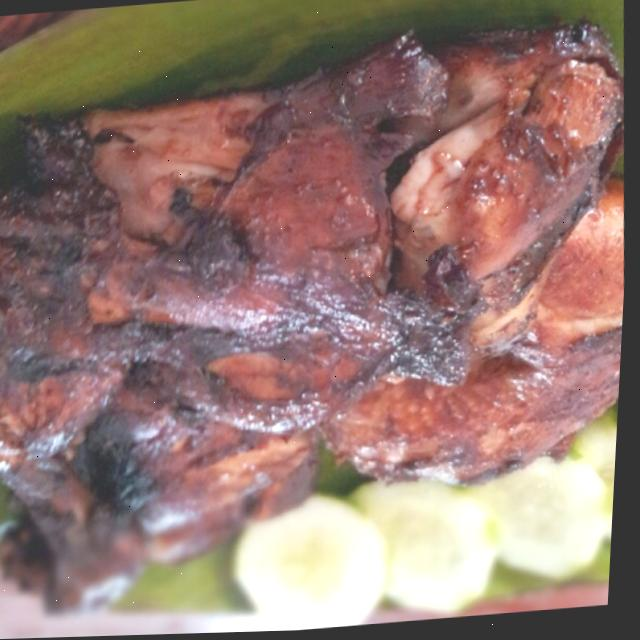鸡肉料理 含炸鸡: (0, 7, 621, 640)
